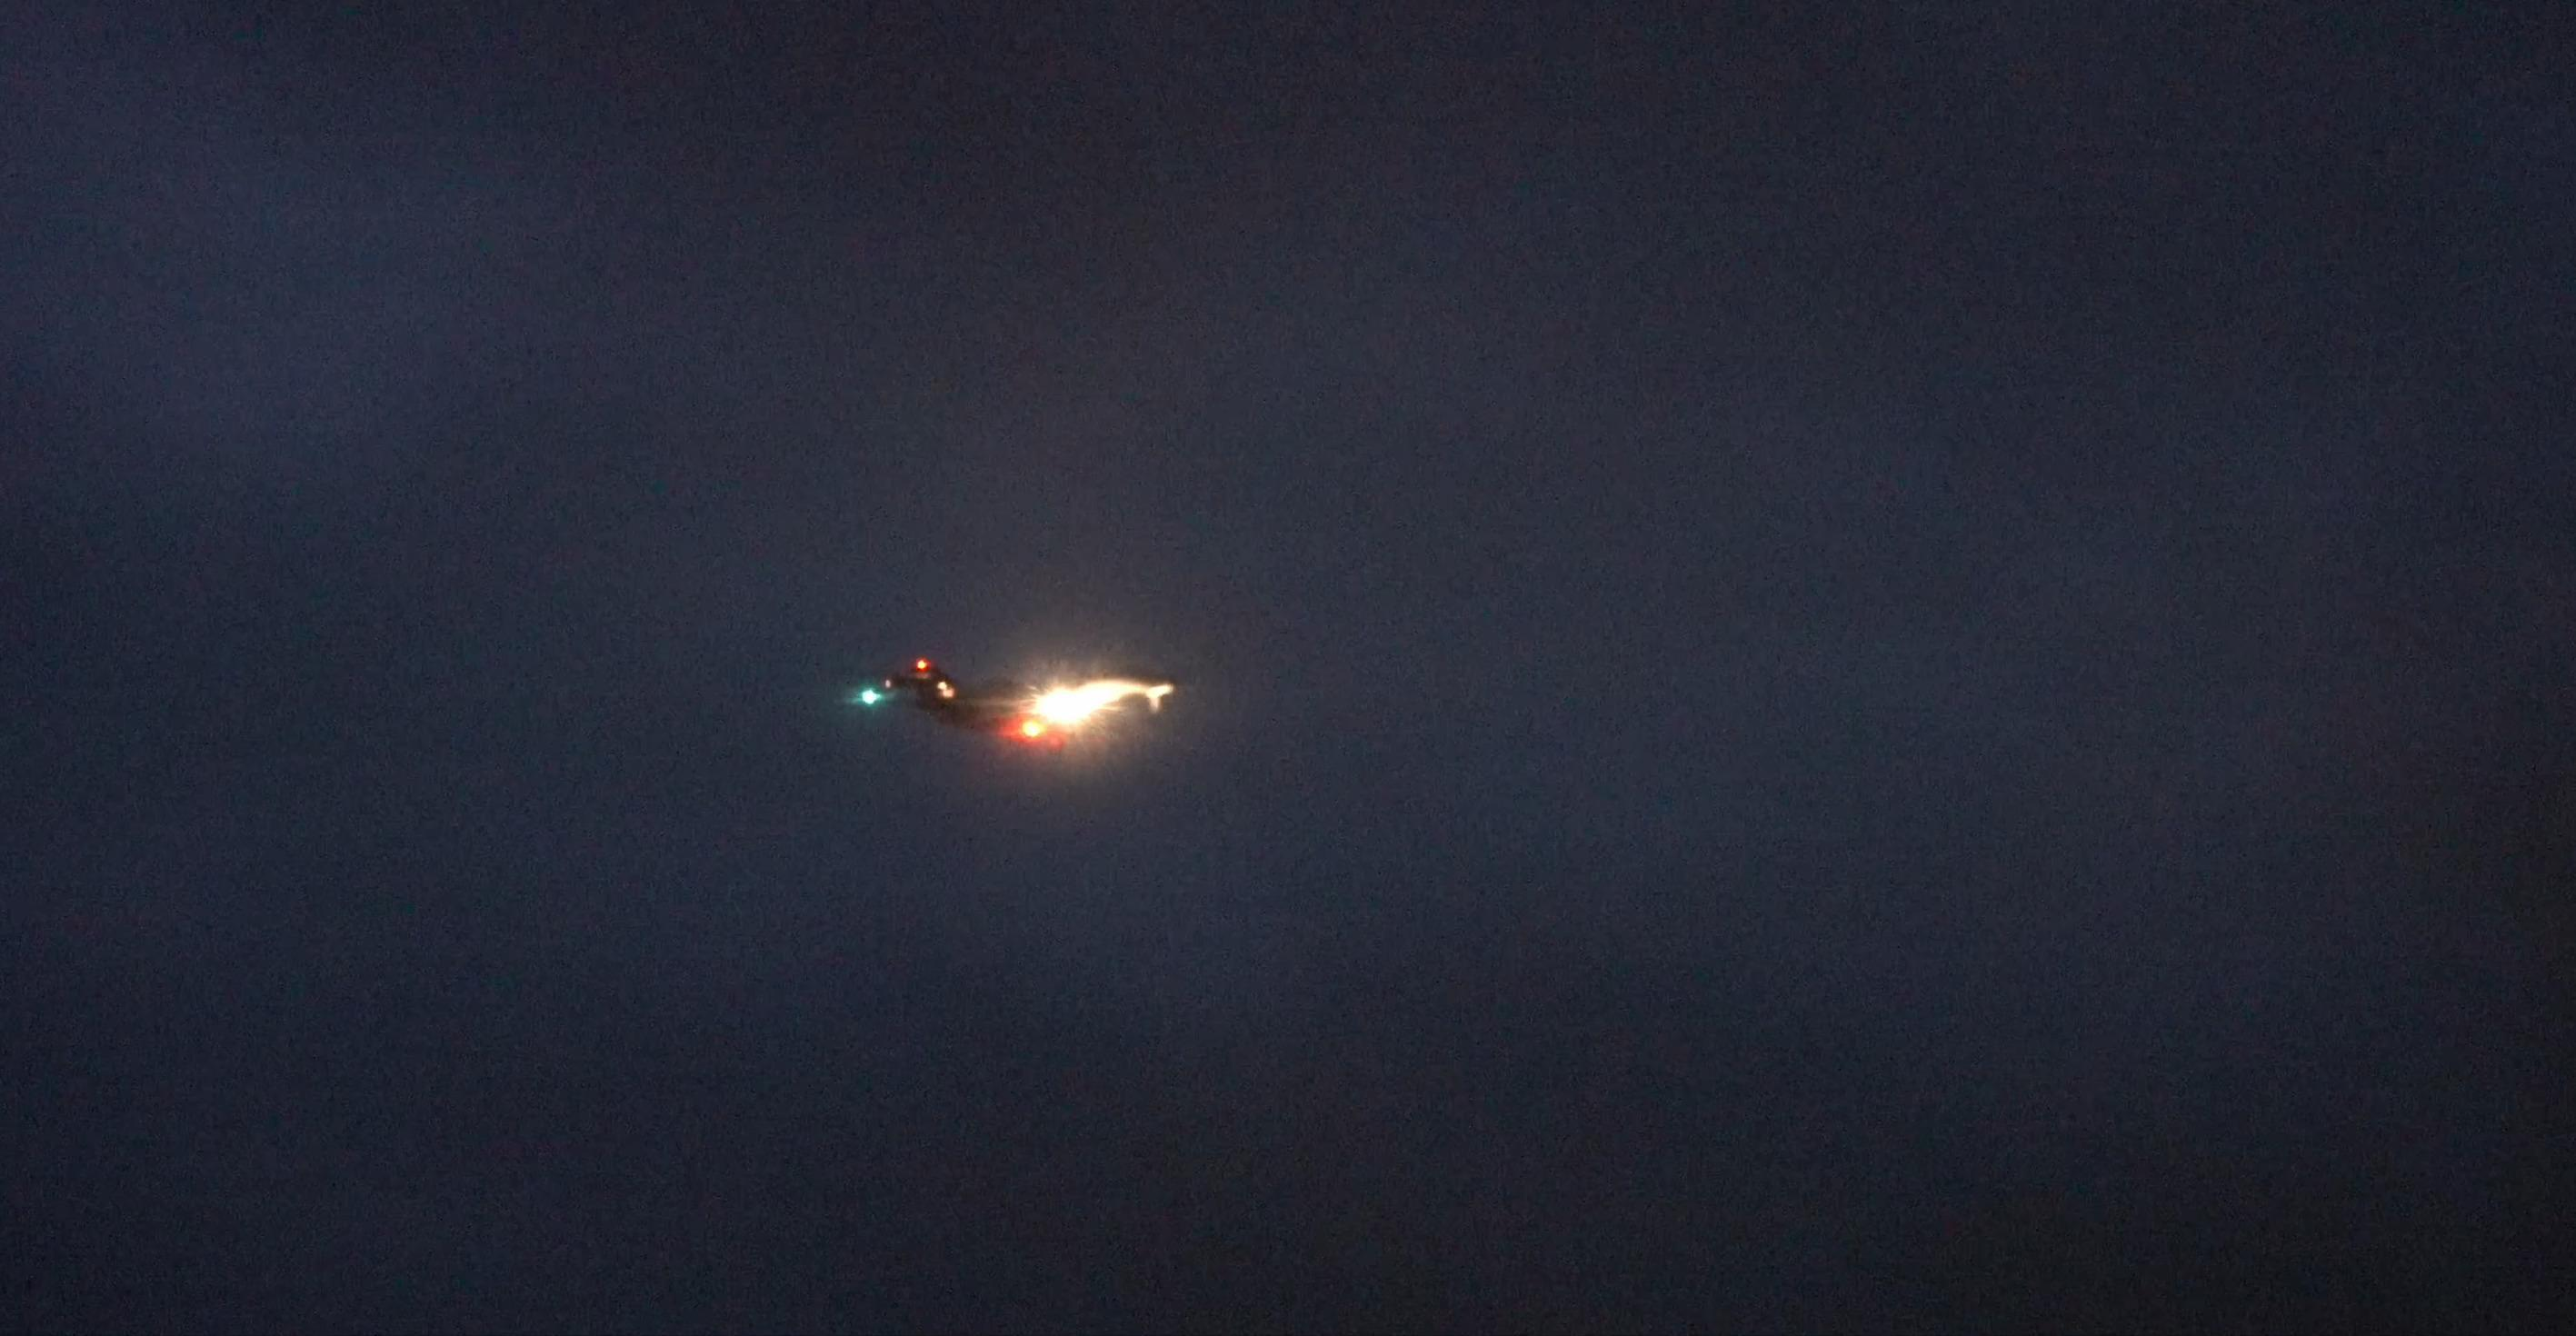Plane: (743, 581, 1331, 837)
